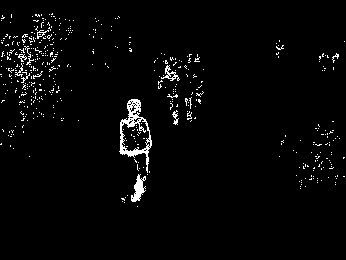person: (117, 98, 154, 203)
